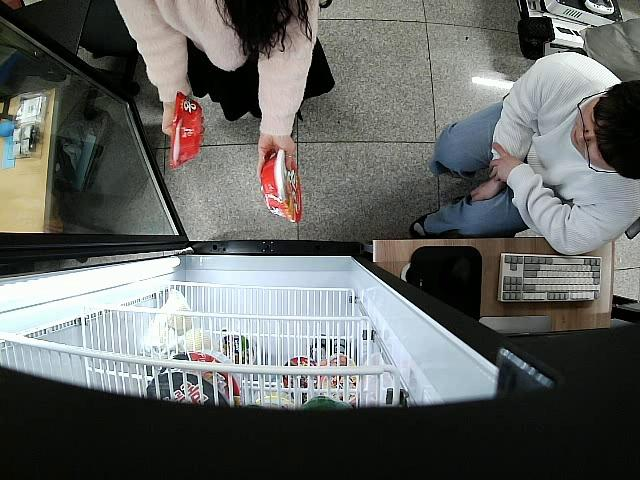00_hand: (256, 132, 300, 183), (487, 140, 522, 182), (160, 100, 184, 138)
10_wangTtukkeong: (259, 147, 303, 225), (169, 93, 202, 171)
